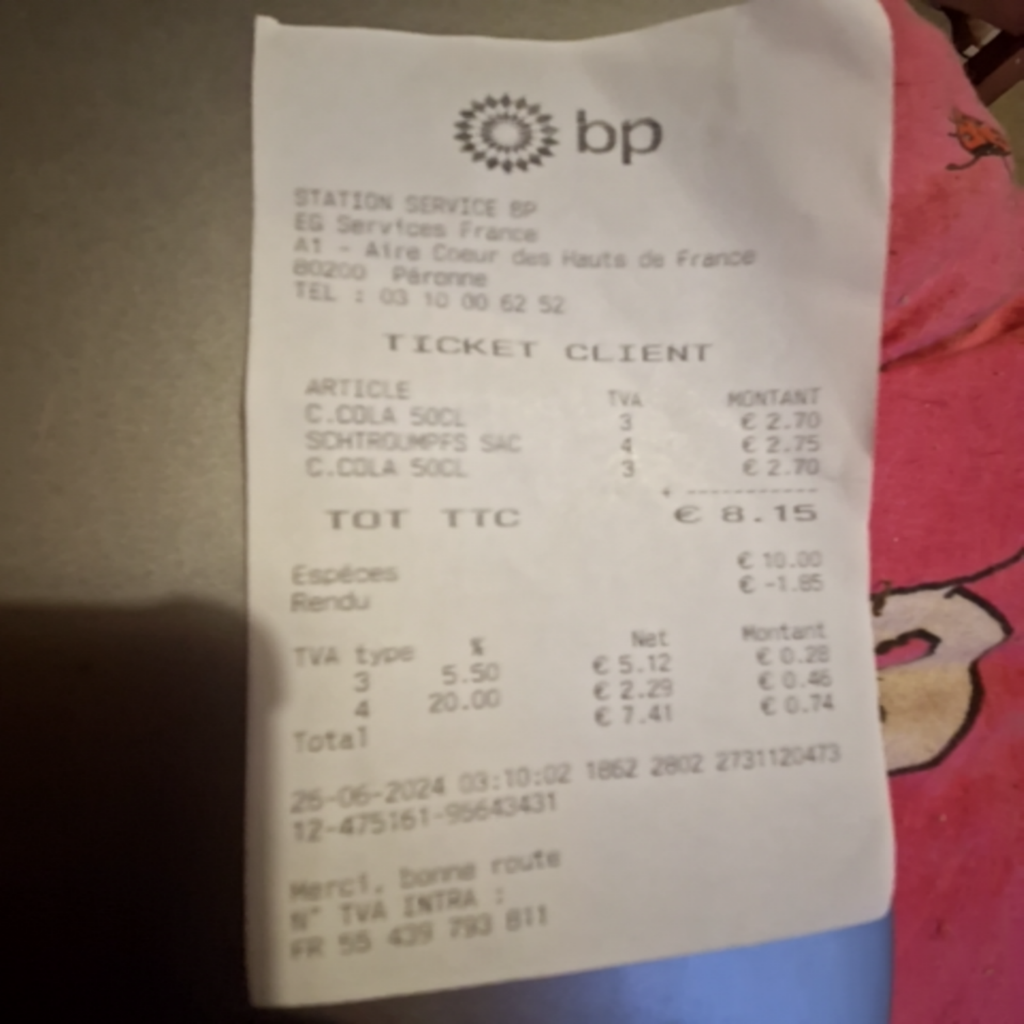recipt: (245, 0, 900, 1009)
